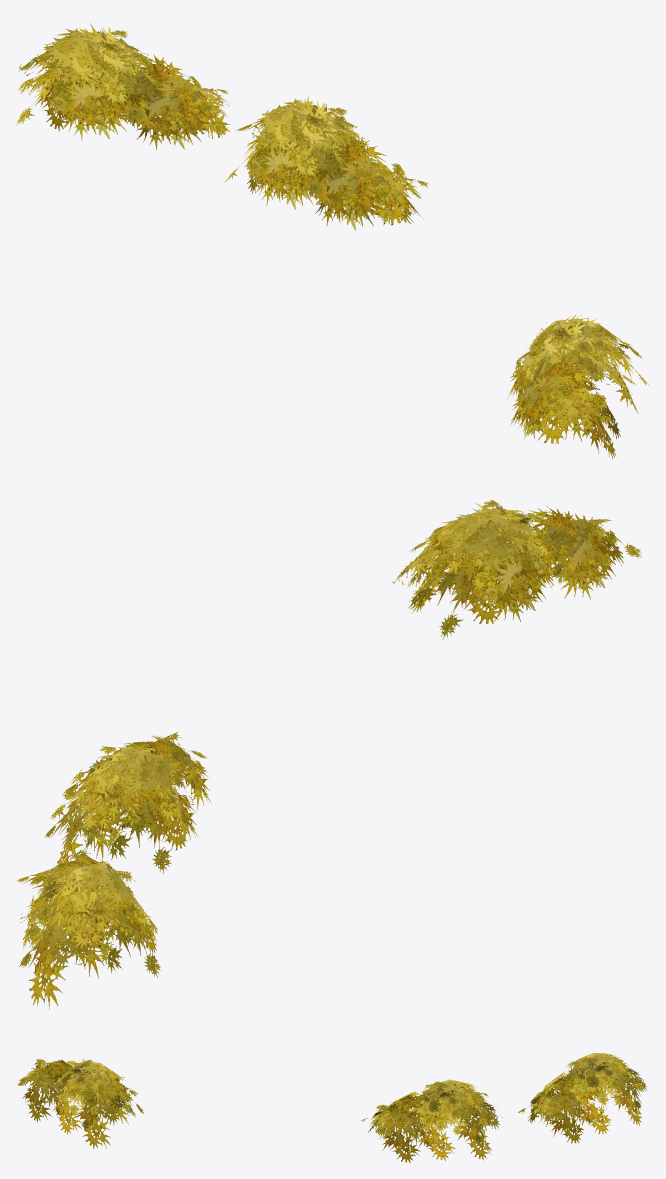
File: Area_01_4.fbx
3 renders of one model, top to bottom at view 1: azimuth 30°, elevation 25°; view 2: azimuth 150°, elevation 25°; view 3: azimuth 270°, elevation 25°, orthographic. The views are drawn at different scales.
Parts seen in each view (by area): view 1: Area_01_4; view 2: Area_01_4; view 3: Area_01_4.
Boxes of the visible parts, x1,y1,x2,y2 form: Area_01_4: (16, 23, 648, 458); Area_01_4: (17, 500, 641, 1009); Area_01_4: (18, 1053, 647, 1163).
Size of the model in its own units: 1357 by 791 by 5376.
1 material, 1 textured.
